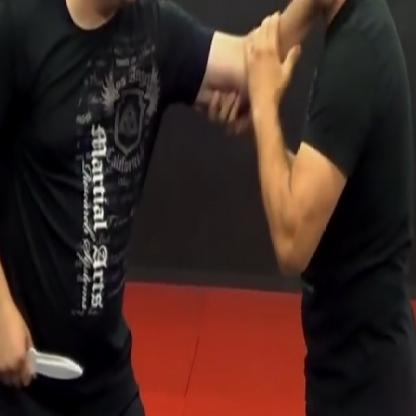knife: (0, 334, 87, 388)
